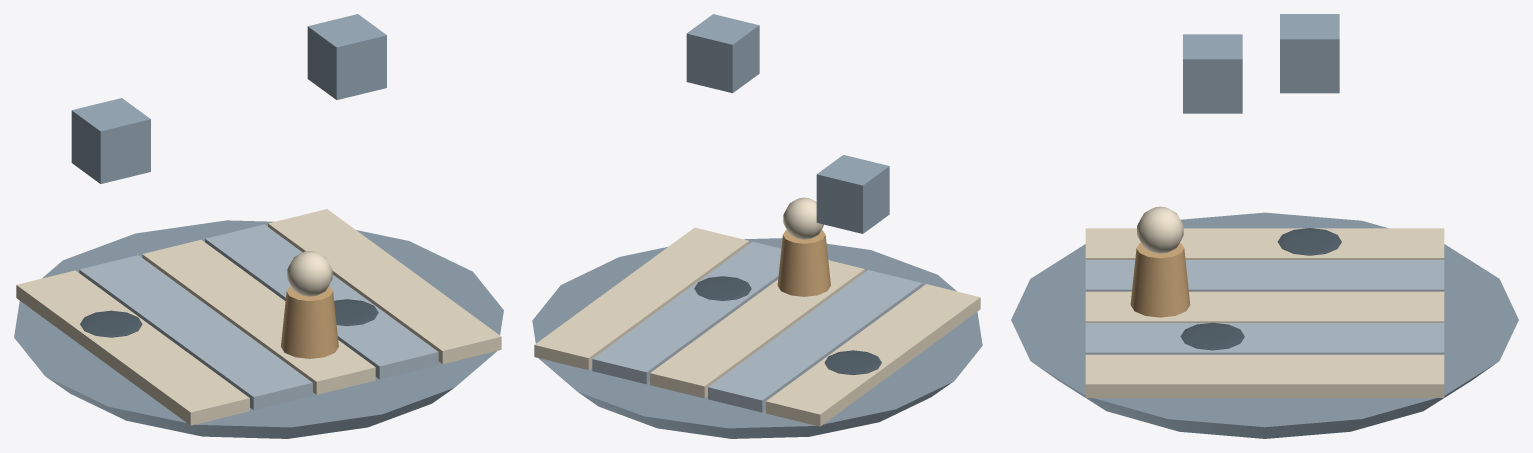
The model's file is party_mg28_dodge_lanes.glb.
The picture shows the model from 3 angles, left to right: view 1: azimuth 30°, elevation 25°; view 2: azimuth 150°, elevation 25°; view 3: azimuth 270°, elevation 25°; orthographic projection. The views are drawn at different scales.
Visible parts, largest first — view 1: _MeshInstance3D_136, _MeshInstance3D_137, _MeshInstance3D_138, _MeshInstance3D_141, _MeshInstance3D_139, _MeshInstance3D_140, _MeshInstance3D_143, _MeshInstance3D_145, _MeshInstance3D_146, _MeshInstance3D_147, _MeshInstance3D_142, _MeshInstance3D_144; view 2: _MeshInstance3D_136, _MeshInstance3D_137, _MeshInstance3D_141, _MeshInstance3D_138, _MeshInstance3D_140, _MeshInstance3D_139, _MeshInstance3D_143, _MeshInstance3D_145, _MeshInstance3D_146, _MeshInstance3D_147, _MeshInstance3D_142, _MeshInstance3D_144; view 3: _MeshInstance3D_136, _MeshInstance3D_141, _MeshInstance3D_140, _MeshInstance3D_139, _MeshInstance3D_138, _MeshInstance3D_137, _MeshInstance3D_143, _MeshInstance3D_145, _MeshInstance3D_146, _MeshInstance3D_147, _MeshInstance3D_142, _MeshInstance3D_144.
Boxes of the visible parts, x1,y1,x2,y2 form: _MeshInstance3D_136: (14, 220, 503, 438); _MeshInstance3D_137: (16, 270, 249, 425); _MeshInstance3D_138: (79, 255, 312, 410); _MeshInstance3D_141: (268, 209, 501, 364); _MeshInstance3D_139: (142, 239, 375, 394); _MeshInstance3D_140: (205, 224, 438, 379); _MeshInstance3D_143: (71, 98, 150, 183); _MeshInstance3D_145: (307, 14, 386, 99); _MeshInstance3D_146: (281, 286, 338, 358); _MeshInstance3D_147: (287, 251, 332, 296); _MeshInstance3D_142: (80, 310, 142, 337); _MeshInstance3D_144: (334, 299, 378, 326); _MeshInstance3D_136: (532, 238, 982, 438); _MeshInstance3D_137: (766, 284, 980, 426); _MeshInstance3D_141: (534, 227, 748, 370); _MeshInstance3D_138: (708, 270, 922, 412); _MeshInstance3D_140: (592, 241, 781, 384); _MeshInstance3D_139: (650, 260, 864, 398); _MeshInstance3D_143: (816, 155, 889, 233); _MeshInstance3D_145: (686, 14, 759, 93); _MeshInstance3D_146: (777, 230, 830, 296); _MeshInstance3D_147: (783, 197, 823, 239); _MeshInstance3D_142: (824, 350, 881, 375); _MeshInstance3D_144: (694, 276, 751, 300); _MeshInstance3D_136: (1011, 212, 1518, 438); _MeshInstance3D_141: (1085, 354, 1444, 397); _MeshInstance3D_140: (1085, 323, 1444, 354); _MeshInstance3D_139: (1085, 291, 1444, 322); _MeshInstance3D_138: (1085, 260, 1444, 291); _MeshInstance3D_137: (1085, 228, 1444, 259); _MeshInstance3D_143: (1280, 14, 1339, 93); _MeshInstance3D_145: (1183, 34, 1242, 113); _MeshInstance3D_146: (1130, 242, 1190, 317); _MeshInstance3D_147: (1137, 206, 1183, 253); _MeshInstance3D_142: (1277, 228, 1341, 255); _MeshInstance3D_144: (1180, 322, 1244, 350).
Bounding box in the file's own units: 3.4 × 2.43 × 3.4.
